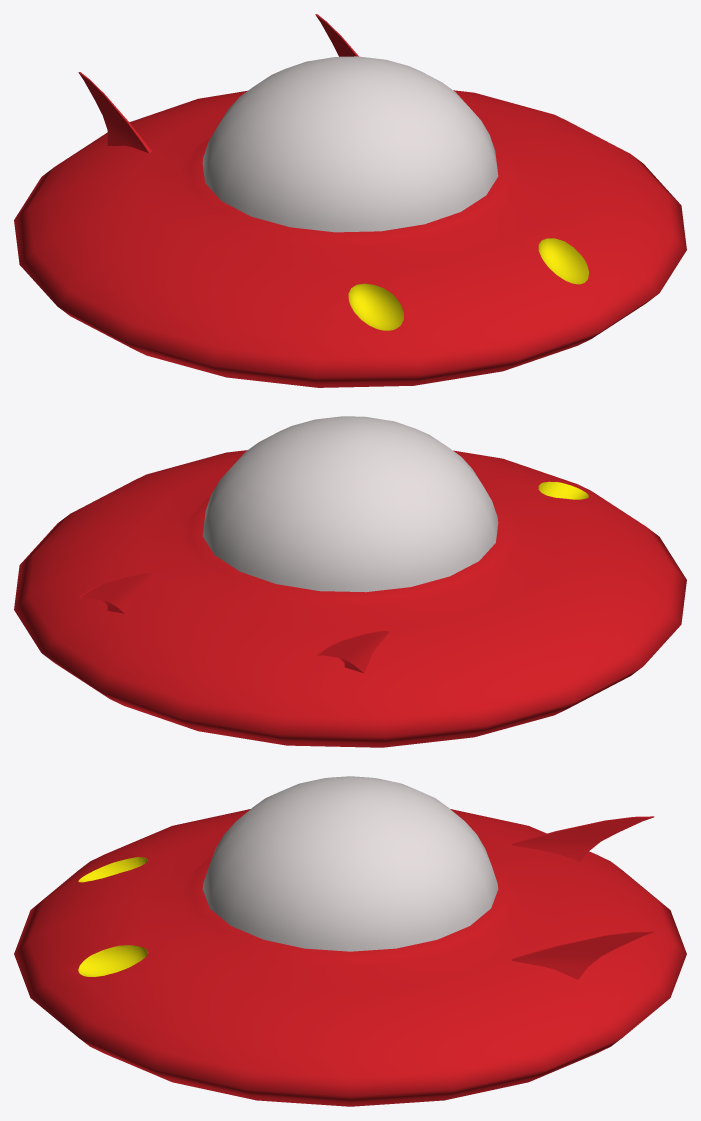
File: ufo.fbx
The picture shows the model from 3 angles, top to bottom: view 1: azimuth 30°, elevation 25°; view 2: azimuth 150°, elevation 25°; view 3: azimuth 270°, elevation 25°; orthographic projection.
Parts seen in each view (by area): view 1: Spacecraft, CockpitDome, RightFin; view 2: Spacecraft, CockpitDome, RightFin, LeftFin; view 3: Spacecraft, CockpitDome, LeftFin, RightFin.
Boxes of the visible parts, left/top/right/bottom form: Spacecraft: left=14, top=90, right=686, bottom=387; CockpitDome: left=202, top=56, right=498, bottom=232; RightFin: left=78, top=72, right=151, bottom=153; Spacecraft: left=14, top=450, right=686, bottom=747; CockpitDome: left=202, top=416, right=498, bottom=592; RightFin: left=315, top=631, right=389, bottom=673; LeftFin: left=78, top=573, right=151, bottom=613; Spacecraft: left=14, top=809, right=686, bottom=1106; CockpitDome: left=202, top=776, right=498, bottom=951; LeftFin: left=511, top=931, right=654, bottom=979; RightFin: left=511, top=816, right=654, bottom=861.
Bounding box in the file's own units: 7.3 × 2.82 × 7.3.
Materials: 1 (1 with a texture image).
